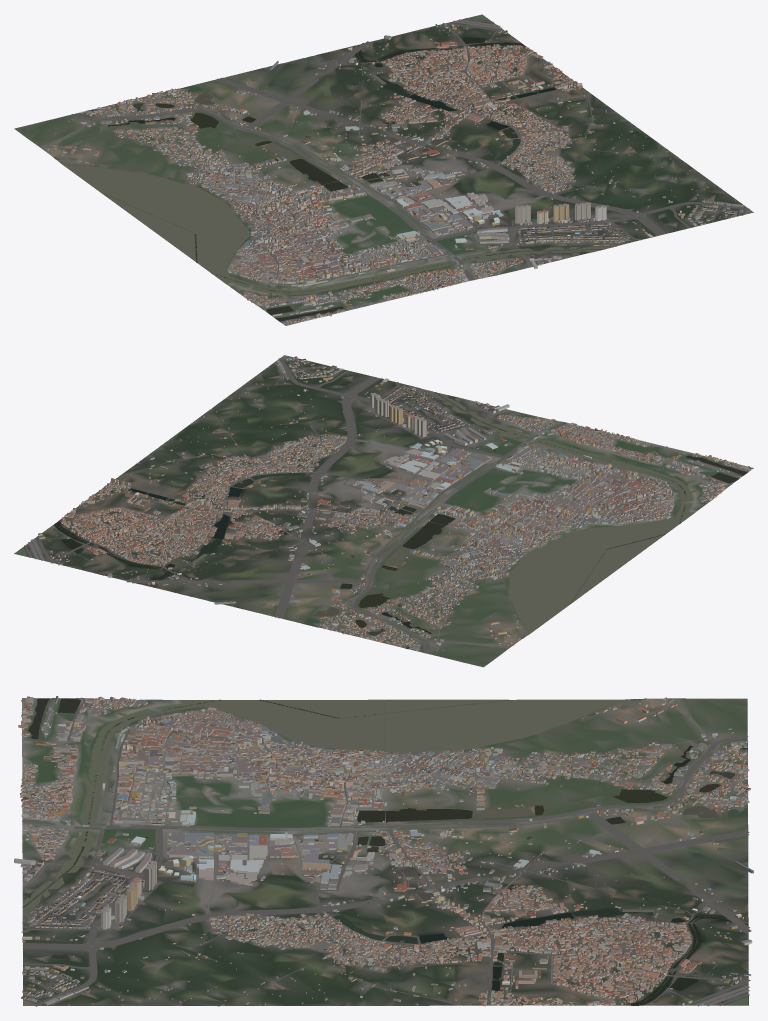
3 renders of one model, top to bottom at view 1: azimuth 30°, elevation 25°; view 2: azimuth 150°, elevation 25°; view 3: azimuth 270°, elevation 25°, orthographic. The views are drawn at different scales.
Visible parts, largest first — view 1: ground, buildings, water, roads; view 2: ground, buildings, water, roads; view 3: ground, buildings, water, roads.
Boxes of the visible parts, x1=… form: ground: x1=14, y1=17, x2=753, y2=325; buildings: x1=44, y1=24, x2=744, y2=324; water: x1=54, y1=14, x2=669, y2=321; roads: x1=41, y1=18, x2=749, y2=325; ground: x1=14, y1=355, x2=753, y2=667; buildings: x1=30, y1=356, x2=751, y2=651; water: x1=14, y1=381, x2=747, y2=648; roads: x1=24, y1=358, x2=752, y2=653; ground: x1=22, y1=698, x2=748, y2=1006; buildings: x1=14, y1=696, x2=753, y2=1006; water: x1=22, y1=698, x2=748, y2=1005; roads: x1=21, y1=697, x2=751, y2=1006.
Bounding box in the file's own units: 2814 × 95.97 × 2859.
